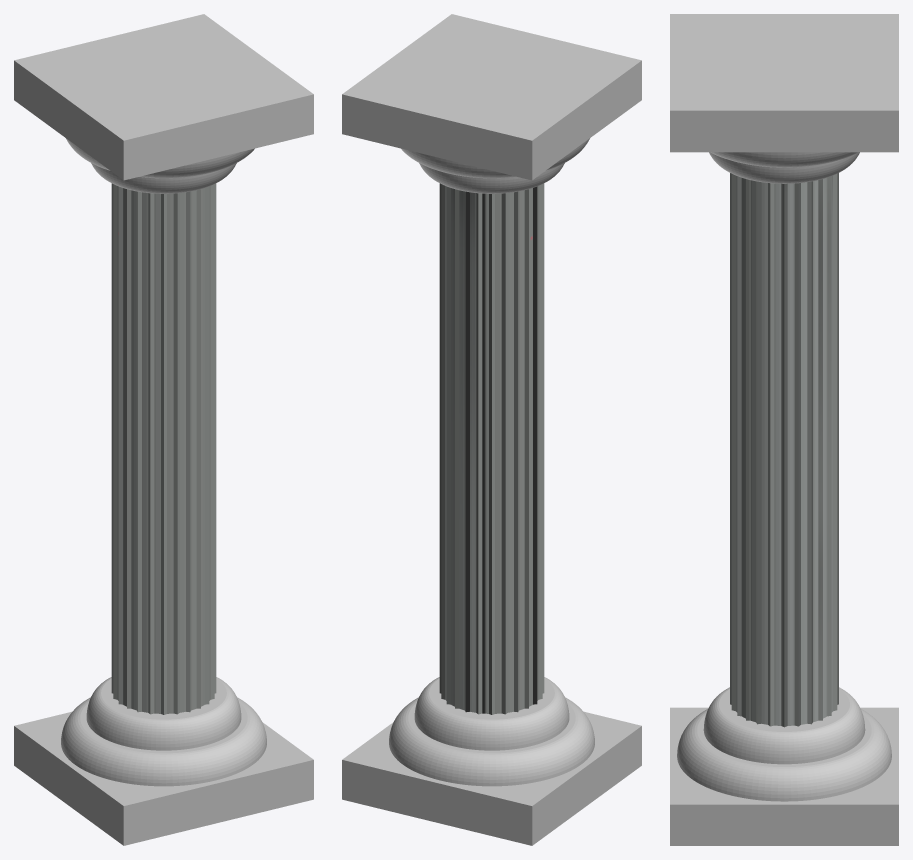
Rendered from Pillar.obj.
3 views of the same model, side by side, from view 1: azimuth 30°, elevation 25°; view 2: azimuth 150°, elevation 25°; view 3: azimuth 270°, elevation 25° (orthographic). The views are drawn at different scales.
Parts seen in each view (by area): view 1: Cylindre_Cylinder, Pied_Cube.015, Pied.001_Cube.016; view 2: Cylindre_Cylinder, Pied_Cube.015, Pied.001_Cube.016; view 3: Cylindre_Cylinder, Pied_Cube.015, Pied.001_Cube.016.
Part boxes in pixels (box(x1,y1,x2,y2)): Cylindre_Cylinder: box(111, 183, 216, 714); Pied_Cube.015: box(14, 14, 313, 193); Pied.001_Cube.016: box(14, 677, 313, 845); Cylindre_Cylinder: box(439, 183, 544, 714); Pied_Cube.015: box(342, 14, 641, 193); Pied.001_Cube.016: box(342, 677, 641, 845); Cylindre_Cylinder: box(730, 173, 838, 727); Pied_Cube.015: box(670, 14, 898, 183); Pied.001_Cube.016: box(670, 687, 898, 845).
Bounding box in the file's own units: 2 × 7.09 × 2.
